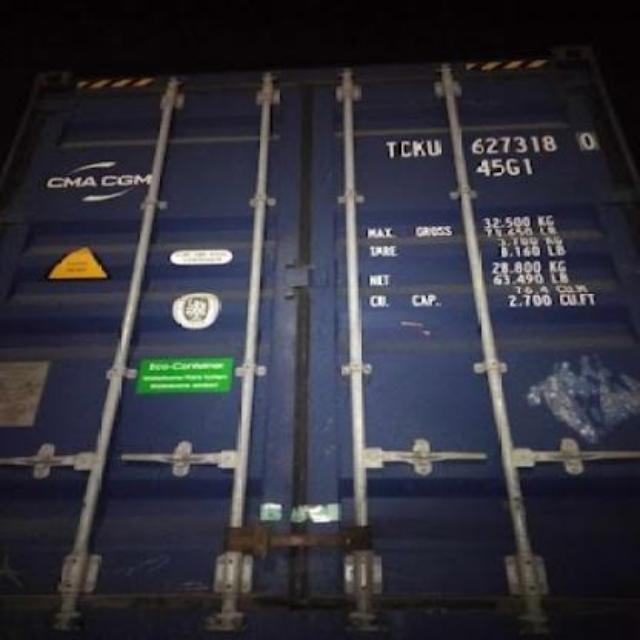0: (570, 125, 604, 158)
1: (526, 127, 540, 157)
2: (482, 128, 500, 156)
3: (514, 132, 526, 156)
6: (470, 130, 486, 158)
7: (498, 132, 514, 156)
8: (538, 127, 560, 157)
C: (398, 132, 414, 166)
K: (410, 132, 426, 166)
T: (382, 130, 398, 163)
U: (424, 127, 444, 165)
